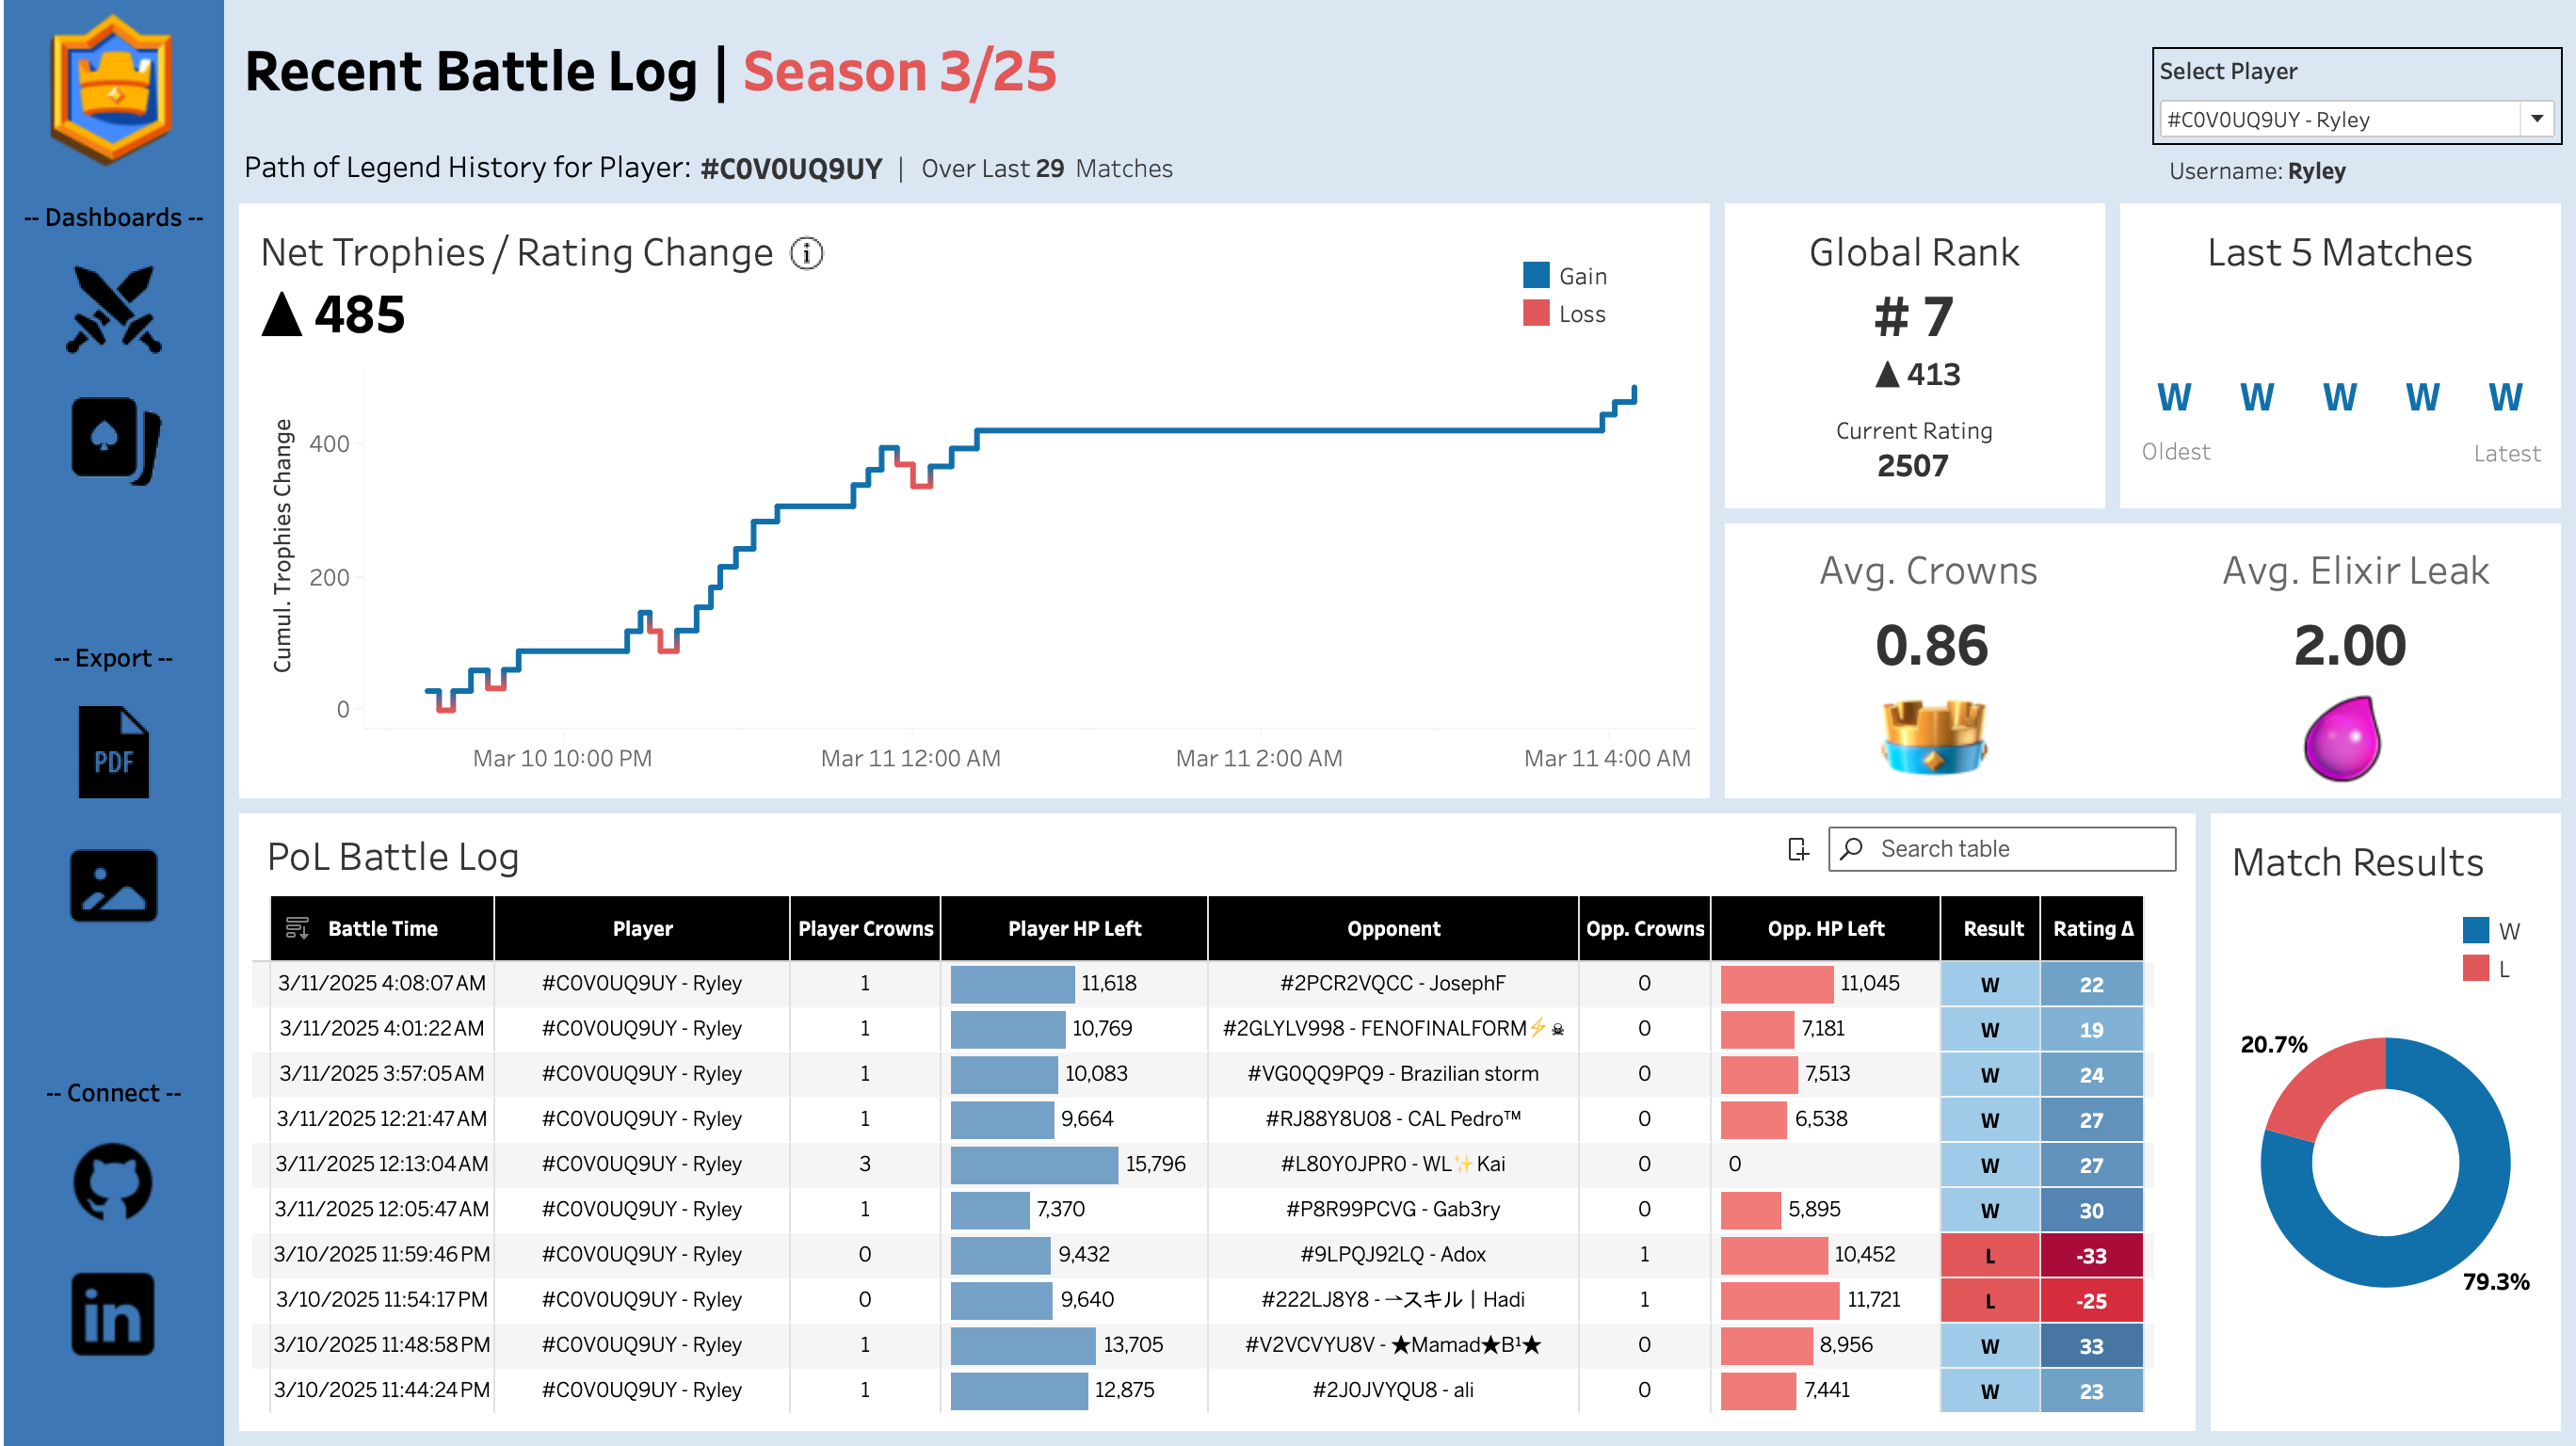

The page's visual inventory and layout, read from the dashboard file:
{"tool":"tableau","page":{"name":"Battle Log Dashboard","canvas":[1366,768],"ordinal":0},"visuals":[{"type":"image","param":"/Users/yishakali/Desktop/Data Sci/06. Personal Projects/Clash Royale API Project","box":[0,0,117,96]},{"type":"text","box":[117,0,1015,72]},{"type":"blank","box":[1132,0,234,72]},{"type":"image","param":"/Users/yishakali/Desktop/Data Sci/06. Personal Projects/Clash Royale API Project","box":[1066,22,66,58]},{"type":"parameter","param":"[Parameters].[Parameter 1]","box":[1141,25,218,52]},{"type":"worksheet","title":"Match Count","mark":"Automatic","box":[470,58,156,47]},{"type":"worksheet","title":"Tag","mark":"Automatic","box":[342,67,154,30]},{"type":"worksheet","title":"Username","mark":"Automatic","box":[1146,68,220,31]},{"type":"text","box":[121,72,1245,32]},{"type":"text","box":[0,96,117,37]},{"type":"worksheet","title":"Trophy Trend","mark":"Automatic","rows":["Calculation_4411275890872975360"],"cols":["battle_time"],"box":[117,104,793,324]},{"type":"worksheet","title":"Global Ranking","mark":"Text","box":[910,104,210,170]},{"type":"worksheet","title":"Last Results","mark":"Automatic","cols":["battle_time"],"box":[1120,104,246,170]},{"type":"dashboard-object","box":[415,125,22,19]},{"type":"dashboard-object","box":[0,133,117,63]},{"type":"legend","title":"Trophy Trend","param":"[federated.0pqyewb1og9j6011yo6wl1lbfwmh].[usr:W/L Coloring (copy)_44112758908767","box":[804,136,96,62]},{"type":"text","box":[224,141,395,52]},{"type":"dashboard-object","box":[0,196,117,75]},{"type":"text","box":[1307,225,46,30]},{"type":"text","box":[1131,227,46,25]},{"type":"text","box":[908,277,229.5,51]},{"type":"text","box":[1137.5,277,225.5,51]},{"type":"worksheet","title":"Avg Crowns","mark":"Text","box":[914,278,222,146]},{"type":"worksheet","title":"Avg Elixir","mark":"Text","box":[1136,278,222,146]},{"type":"blank","box":[0,284,117,43]},{"type":"text","box":[0,327,117,44]},{"type":"image","param":"/Users/yishakali/Desktop/Data Sci/06. Personal Projects/Clash Royale API Project","box":[964,360,123,63]},{"type":"image","param":"/Users/yishakali/Desktop/Data Sci/06. Personal Projects/Clash Royale API Project","box":[1207,369,70,47]},{"type":"dashboard-object","box":[0,371,117,57]},{"type":"text","box":[962,408,249,46]},{"type":"blank","box":[0,428,117,10]},{"type":"worksheet","title":"Log Table","box":[117,428,1051,340]},{"type":"worksheet","title":" Match Results","mark":"Pie","rows":["Calculation_3686196350675226632","Calculation_3686196350675226632"],"box":[1168,428,198,340]},{"type":"dashboard-object","box":[0,438,117,65]},{"type":"text","box":[137,439,296,30]},{"type":"legend","title":" Match Results","param":"[federated.0pqyewb1og9j6011yo6wl1lbfwmh].[none:outcome_team:nk]","box":[1303,484,41,61]},{"type":"text","box":[0,562,117,36]},{"type":"image","param":"/Users/yishakali/Desktop/Data Sci/06. Personal Projects/Clash Royale API Project","box":[0,598,117,60]},{"type":"blank","box":[0,658,117,10]},{"type":"image","param":"/Users/yishakali/Desktop/Data Sci/06. Personal Projects/Clash Royale API Project","box":[0,668,117,60]}]}

Visuals, with their boxes on the page's 1366x768 design canvas (x1, y1, x2, y2). These are canvas units, not pixel positions in the 2576x1446 screenshot, which may show the page scaled, cropped or inside an application window:
image: BBox(0, 0, 117, 96)
text: BBox(117, 0, 1132, 72)
blank: BBox(1132, 0, 1366, 72)
image: BBox(1066, 22, 1132, 80)
parameter: BBox(1141, 25, 1359, 77)
"Match Count" worksheet: BBox(470, 58, 626, 105)
"Tag" worksheet: BBox(342, 67, 496, 97)
"Username" worksheet: BBox(1146, 68, 1366, 99)
text: BBox(121, 72, 1366, 104)
text: BBox(0, 96, 117, 133)
"Trophy Trend" worksheet: BBox(117, 104, 910, 428)
"Global Ranking" worksheet (Text marks): BBox(910, 104, 1120, 274)
"Last Results" worksheet: BBox(1120, 104, 1366, 274)
dashboard-object: BBox(415, 125, 437, 144)
dashboard-object: BBox(0, 133, 117, 196)
"Trophy Trend" legend: BBox(804, 136, 900, 198)
text: BBox(224, 141, 619, 193)
dashboard-object: BBox(0, 196, 117, 271)
text: BBox(1307, 225, 1353, 255)
text: BBox(1131, 227, 1177, 252)
text: BBox(908, 277, 1138, 328)
text: BBox(1138, 277, 1363, 328)
"Avg Crowns" worksheet (Text marks): BBox(914, 278, 1136, 424)
"Avg Elixir" worksheet (Text marks): BBox(1136, 278, 1358, 424)
blank: BBox(0, 284, 117, 327)
text: BBox(0, 327, 117, 371)
image: BBox(964, 360, 1087, 423)
image: BBox(1207, 369, 1277, 416)
dashboard-object: BBox(0, 371, 117, 428)
text: BBox(962, 408, 1211, 454)
blank: BBox(0, 428, 117, 438)
"Log Table" worksheet: BBox(117, 428, 1168, 768)
" Match Results" worksheet (Pie marks): BBox(1168, 428, 1366, 768)
dashboard-object: BBox(0, 438, 117, 503)
text: BBox(137, 439, 433, 469)
" Match Results" legend: BBox(1303, 484, 1344, 545)
text: BBox(0, 562, 117, 598)
image: BBox(0, 598, 117, 658)
blank: BBox(0, 658, 117, 668)
image: BBox(0, 668, 117, 728)
